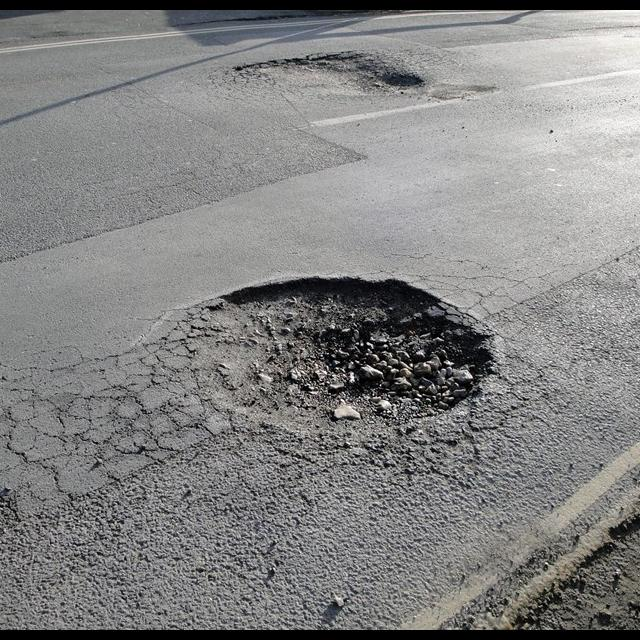lubang_kecil: (193, 267, 496, 447), (212, 42, 435, 110)
retak_kulit_buaya: (0, 321, 189, 514)
